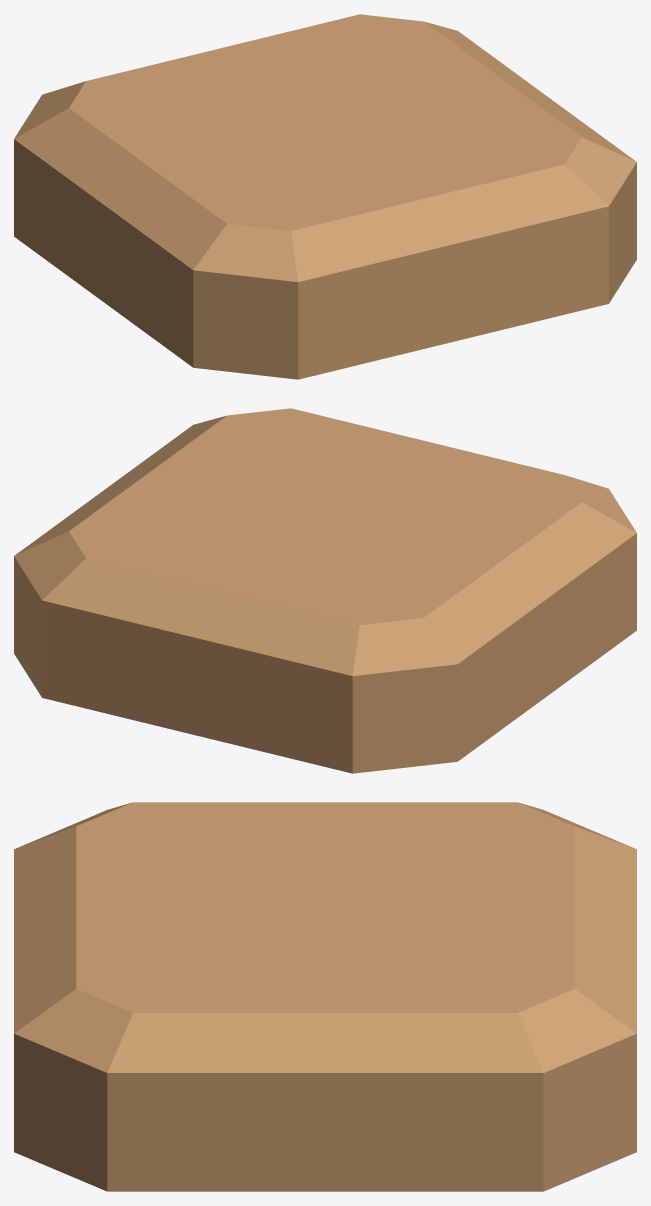
File: Trap.glb
The picture shows the model from 3 angles, top to bottom: view 1: azimuth 30°, elevation 25°; view 2: azimuth 150°, elevation 25°; view 3: azimuth 270°, elevation 25°; orthographic projection. The views are drawn at different scales.
Visible parts, largest first — view 1: mergedBlocks(Clone); view 2: mergedBlocks(Clone); view 3: mergedBlocks(Clone).
Part boxes in pixels (x1=…): mergedBlocks(Clone): x1=14, y1=14, x2=636, y2=379; mergedBlocks(Clone): x1=14, y1=408, x2=636, y2=773; mergedBlocks(Clone): x1=14, y1=802, x2=636, y2=1191.
Bounding box in the file's own units: 1.5 × 0.405 × 1.5.
